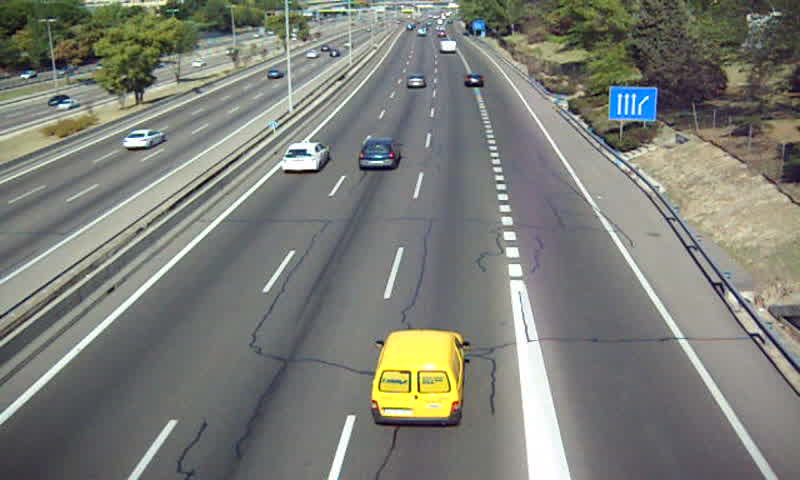car: (283, 142, 329, 171), (358, 140, 400, 170), (405, 74, 427, 90), (464, 73, 485, 87)
van: (371, 330, 462, 429)
